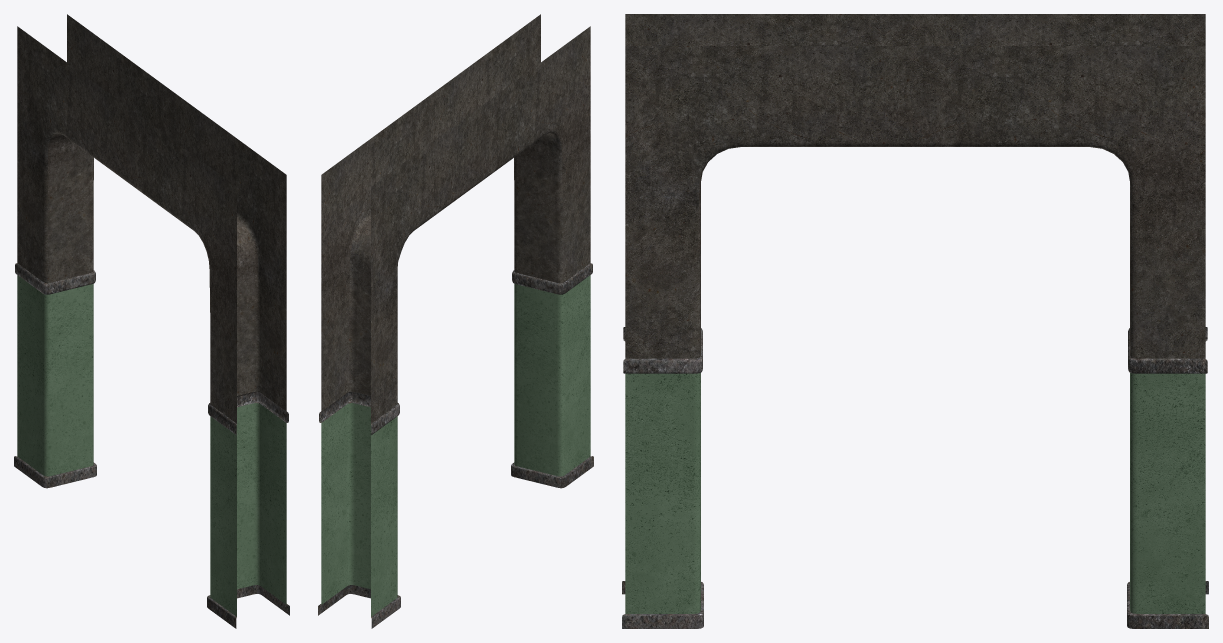
The model's file is Archway.FBX.
The picture shows the model from 3 angles, left to right: view 1: azimuth 30°, elevation 25°; view 2: azimuth 150°, elevation 25°; view 3: azimuth 270°, elevation 25°; orthographic projection. The views are drawn at different scales.
Parts seen in each view (by area): view 1: Archway; view 2: Archway; view 3: Archway.
Boxes of the visible parts, x1,y1,x2,y2 form: Archway: (14,14,289,628); Archway: (318,14,593,628); Archway: (622,14,1208,628).
Size of the model in its own units: 10.68 by 83.61 by 76.43.
